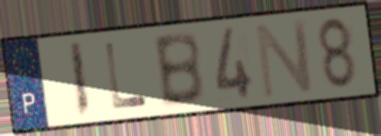4: (213, 24, 256, 103)
8: (315, 15, 362, 92)
B: (150, 29, 208, 110)
I: (66, 39, 92, 120)
L: (102, 40, 151, 112)
N: (252, 16, 316, 101)
